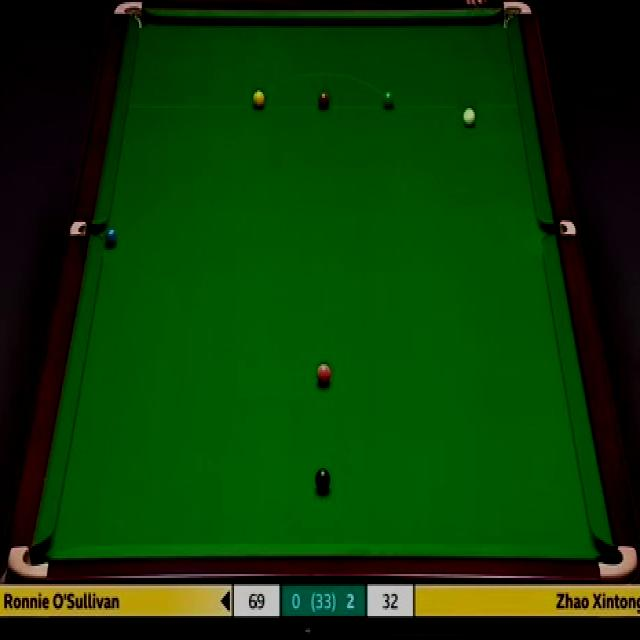pocket: (597, 544, 640, 584), (6, 540, 46, 580), (111, 0, 147, 31), (501, 0, 531, 31), (68, 220, 102, 237), (542, 220, 575, 235)
